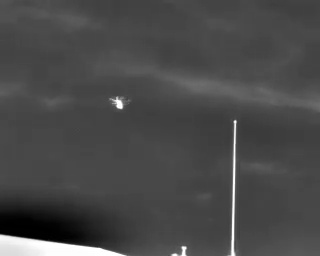HELICOPTER: (105, 89, 136, 116)
